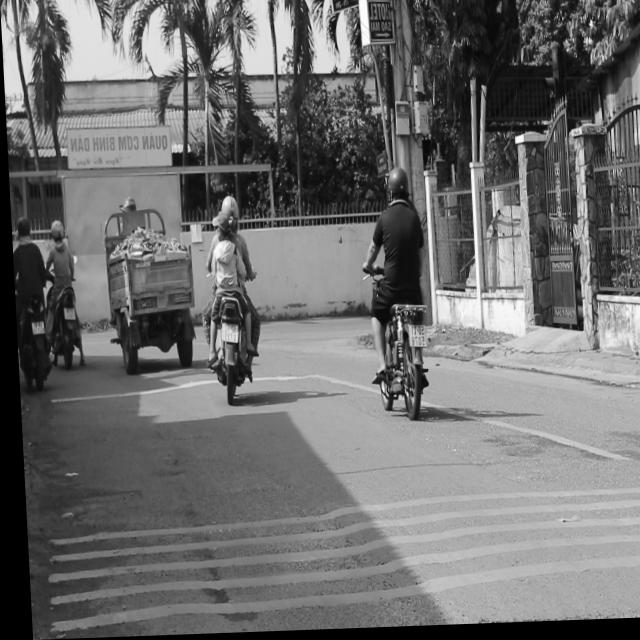helmet: (384, 167, 410, 207), (218, 195, 237, 224)
licenseplate: (357, 164, 433, 420), (195, 193, 261, 403)
motorcyclist: (212, 212, 229, 243)
nohelmet: (404, 328, 423, 350), (218, 325, 235, 345)
